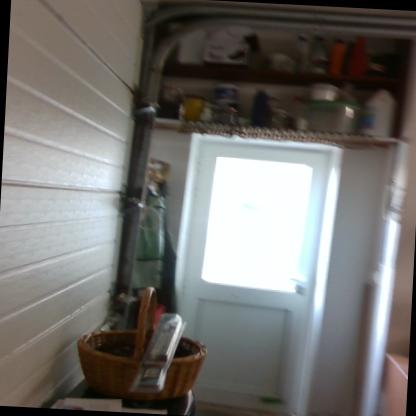closed: (158, 126, 345, 416)
